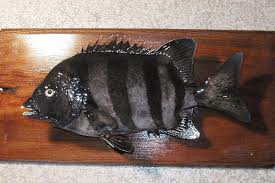azi: (31, 33, 247, 144)
